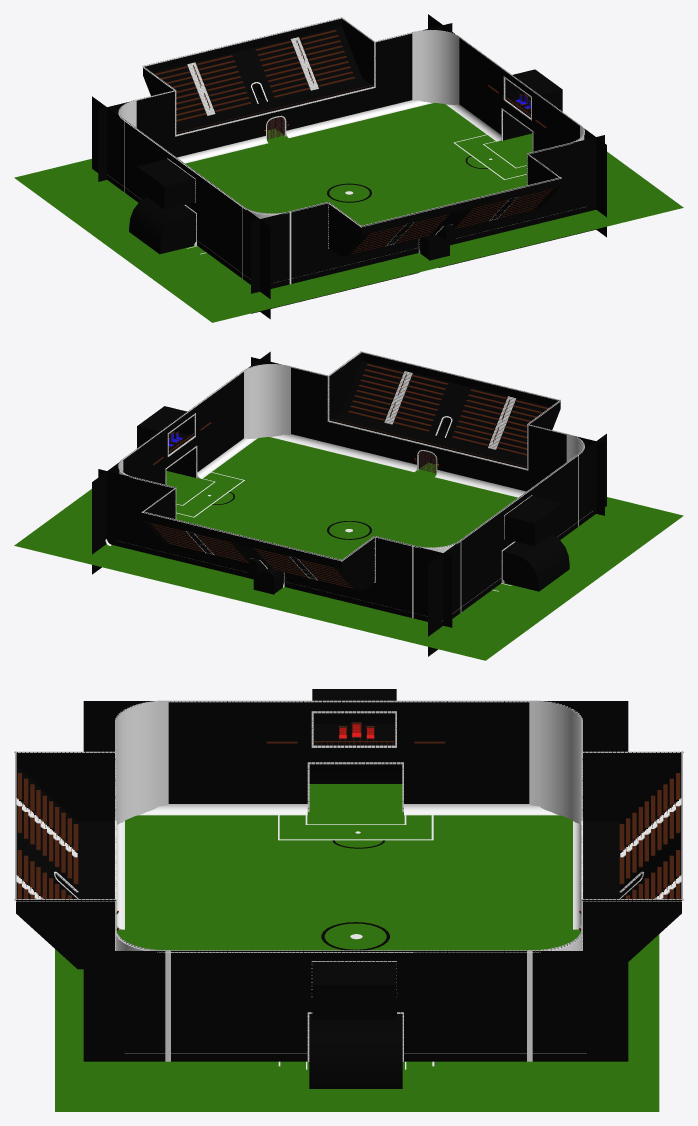
The model's file is MapFull46.FBX.
3 renders of one model, top to bottom at view 1: azimuth 30°, elevation 25°; view 2: azimuth 150°, elevation 25°; view 3: azimuth 270°, elevation 25°, orthographic. The views are drawn at different scales.
Visible parts, largest first — view 1: Ground, Stands, Goal, Stands001; view 2: Ground, Stands001, Goal, Stands; view 3: Goal, Ground, Stands001, Stands, FlagRed01, FlagRed02.
Boxes of the visible parts, <box> form: Ground: <box>14,103,683,322</box>; Stands: <box>98,17,461,192</box>; Goal: <box>92,14,606,319</box>; Stands001: <box>241,123,604,313</box>; Ground: <box>14,437,683,660</box>; Stands001: <box>242,351,604,526</box>; Goal: <box>92,351,606,656</box>; Stands: <box>98,457,461,627</box>; Goal: <box>83,689,628,1088</box>; Ground: <box>55,784,659,1111</box>; Stands001: <box>14,700,170,1061</box>; Stands: <box>527,700,683,1061</box>; FlagRed01: <box>414,741,445,795</box>; FlagRed02: <box>266,741,297,795</box>.
Size of the model in its own units: 533 by 101 by 430.
